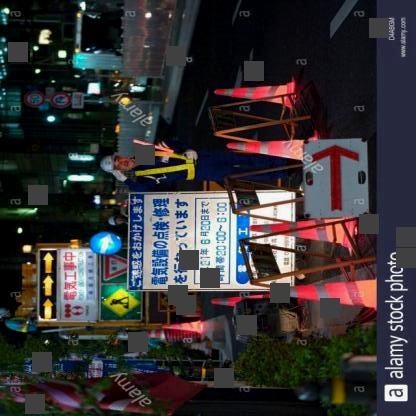vest: (132, 148, 200, 184)
white: (98, 150, 118, 174)
